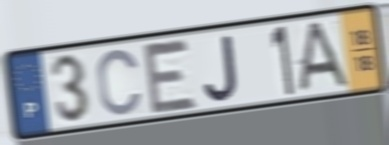1: (269, 23, 297, 98)
3: (48, 51, 93, 126)
A: (293, 19, 352, 95)
C: (95, 46, 145, 118)
E: (139, 37, 201, 116)
J: (201, 32, 240, 104)
